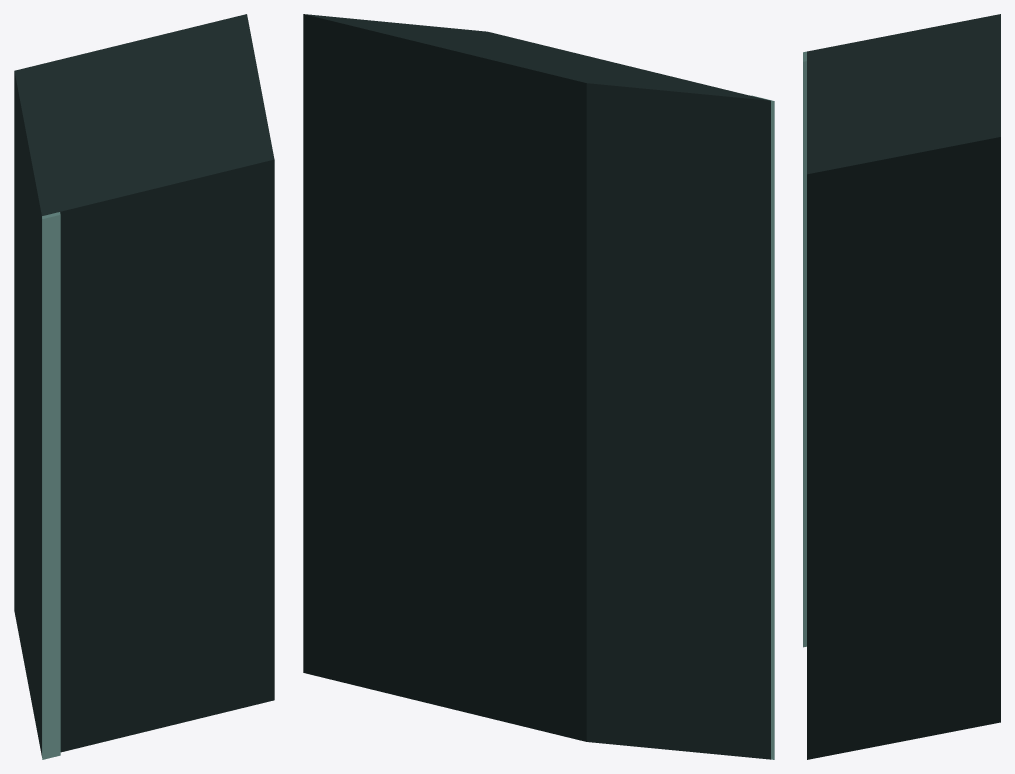
The model's file is Hall_Column.gltf.
The picture shows the model from 3 angles, left to right: view 1: azimuth 30°, elevation 25°; view 2: azimuth 150°, elevation 25°; view 3: azimuth 270°, elevation 25°; orthographic projection. The views are drawn at different scales.
Parts seen in each view (by area): view 1: Hall_Column_baked; view 2: Hall_Column_baked; view 3: Hall_Column_baked.
Part boxes in pixels (box(x1,y1,x2,y2)): Hall_Column_baked: box(14, 14, 274, 759); Hall_Column_baked: box(303, 14, 774, 759); Hall_Column_baked: box(803, 14, 1000, 759).
Bounding box in the file's own units: 0.5724 × 1.12 × 0.306.
